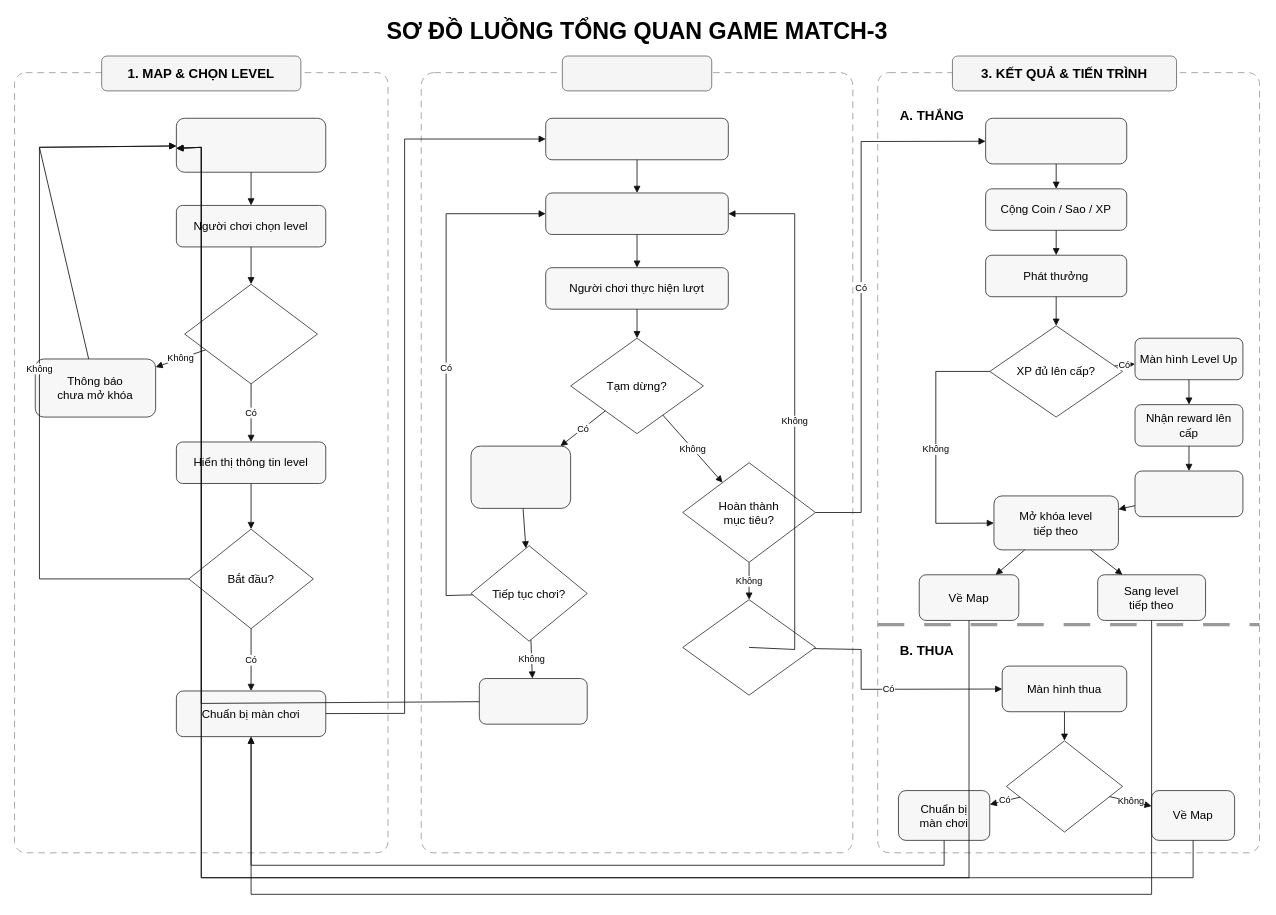
Some shapes in this 1276 by 915 pixel diagram are drawn without their labels. Here are the shapes that lost their labels. From the top down, the centre of each, then its label:
point 636,73: 2. GAMEPLAY
point 251,144: Map / Bản đồ màn chơi
point 636,138: Hiển thị mục tiêu, lượt
point 1056,140: Màn hình thắng
point 636,213: Gameplay
point 250,333: Level đã mở khóa?
point 520,476: Màn hình tạm dừng
point 1188,493: Mở khóa tính năng mới
point 748,647: Hết lượt?
point 532,701: Quay về Map
point 1064,786: Chơi lại?
